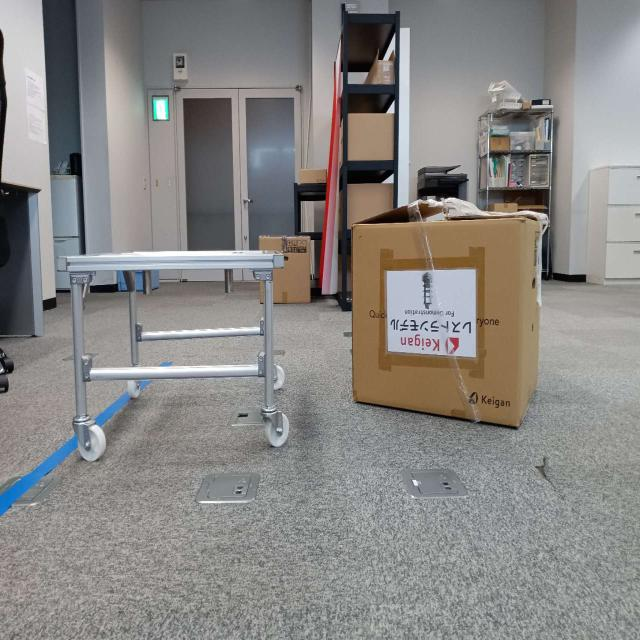box: (354, 209, 543, 431)
side: (69, 253, 275, 382)
